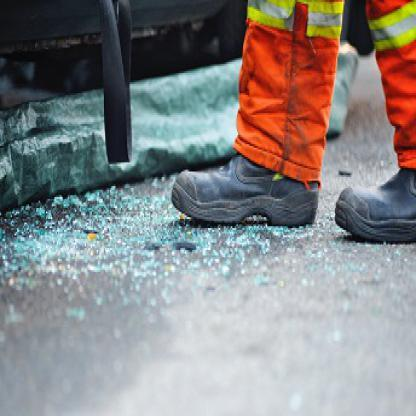bota: (164, 134, 323, 227)
